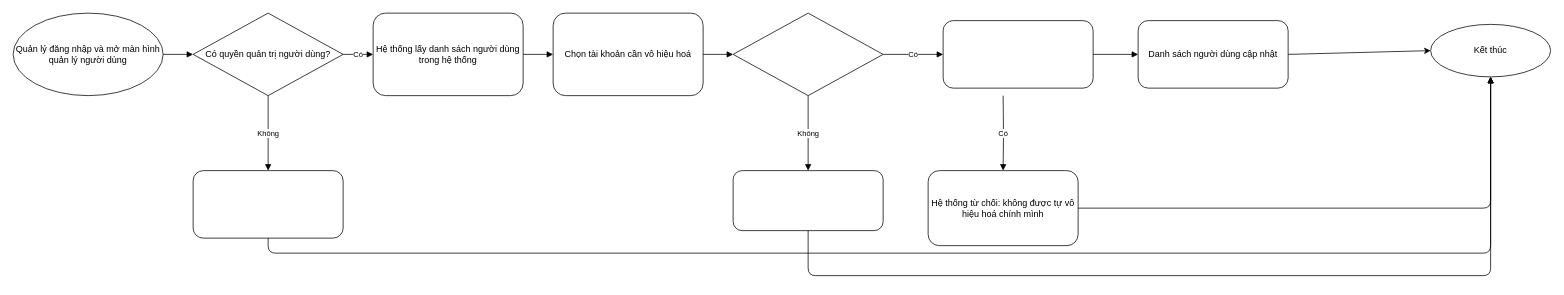
Image size: 1564x295. Some labels were removed from this diagram. The centre of each missing label's shape, as x and y in pixels:
Hệ thống cập nhật trạng thái tài khoản sang ngừng hoạt động: the point at 1017,54
Hệ thống từ chối truy cập màn hình quản trị: the point at 267,204
Hủy thao tác, giữ nguyên tài khoản: the point at 807,200
Quản lý xác nhận vô hiệu hoá?: the point at 807,54
